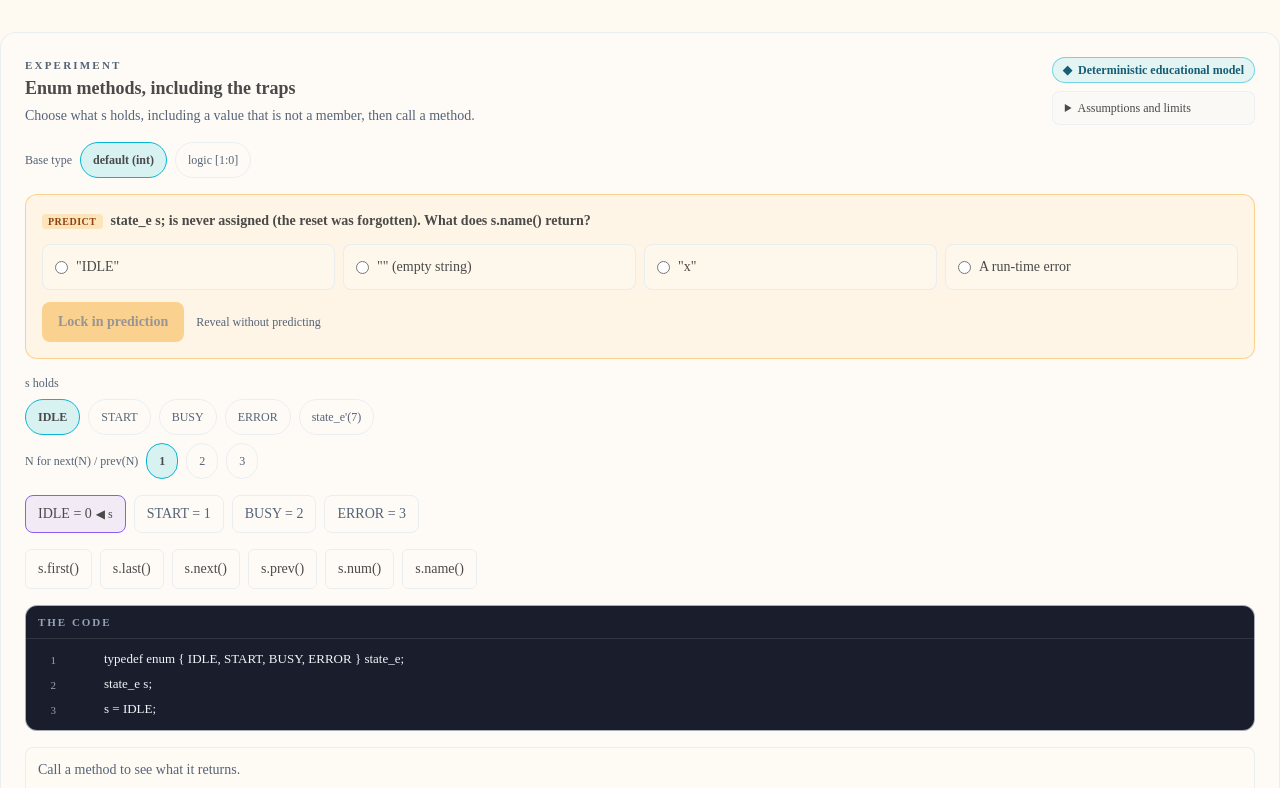
EnumMethodVisualizer › next() on an invalid value returns the default value, and name() returns ""
Click the radio button labelled "state_e'(7)" at (336, 416), box left=299, top=398, right=374, bottom=434
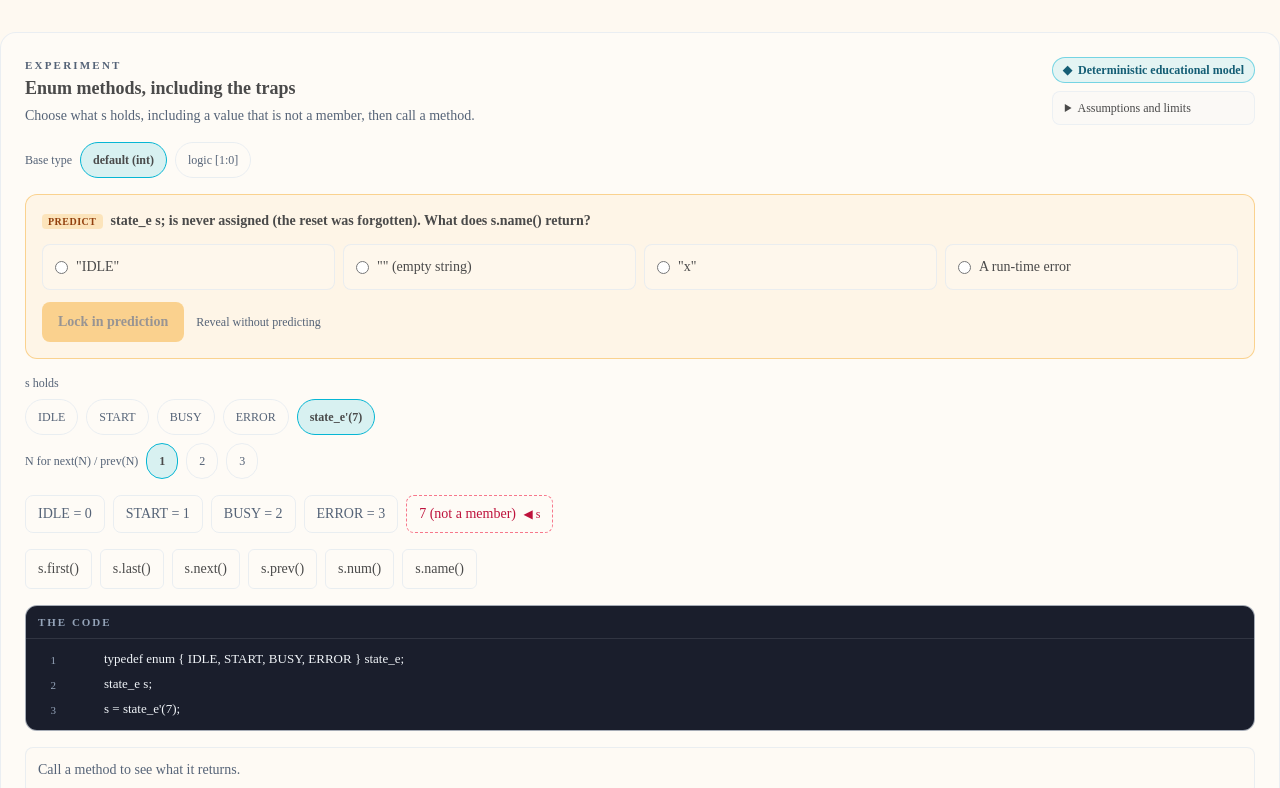
Click the button "s.next()" at (206, 568), box left=172, top=548, right=240, bottom=588
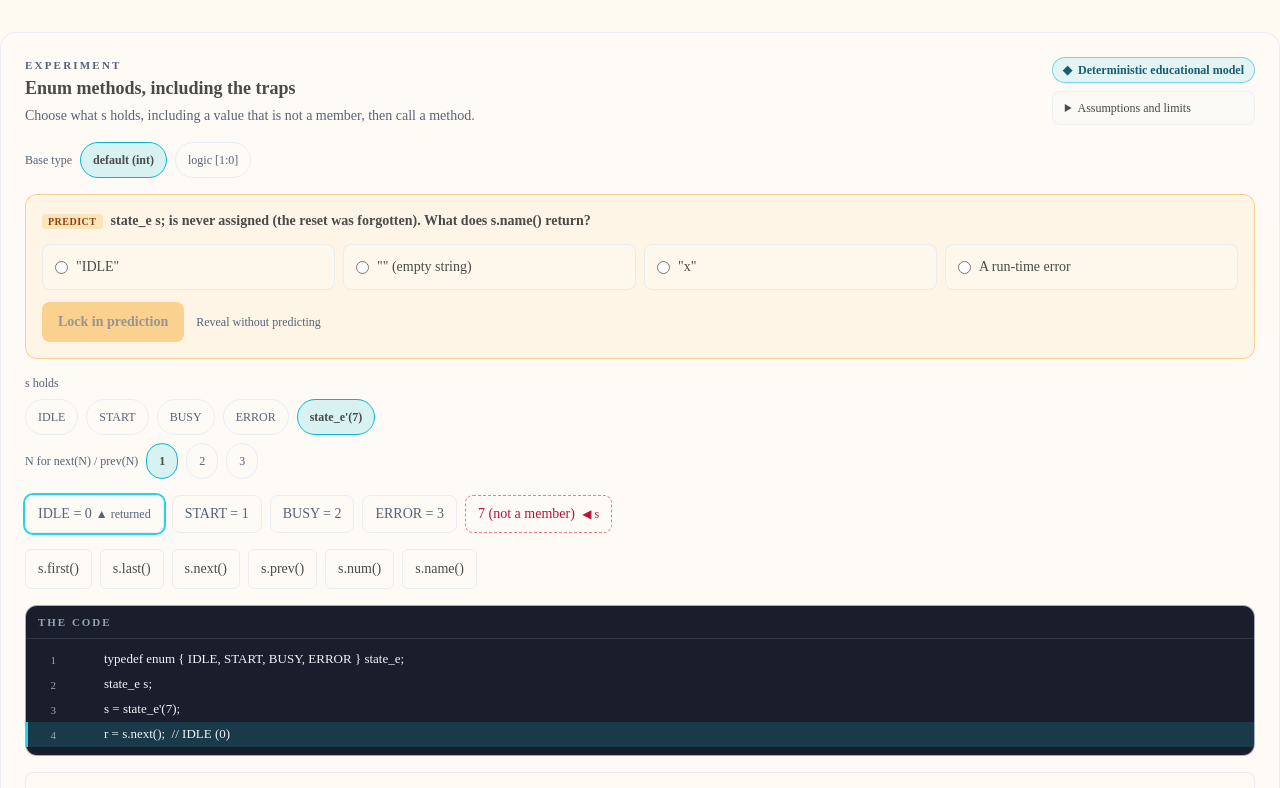
Click the button "s.name()" at (440, 568), box left=402, top=548, right=477, bottom=588
(page scrolled)
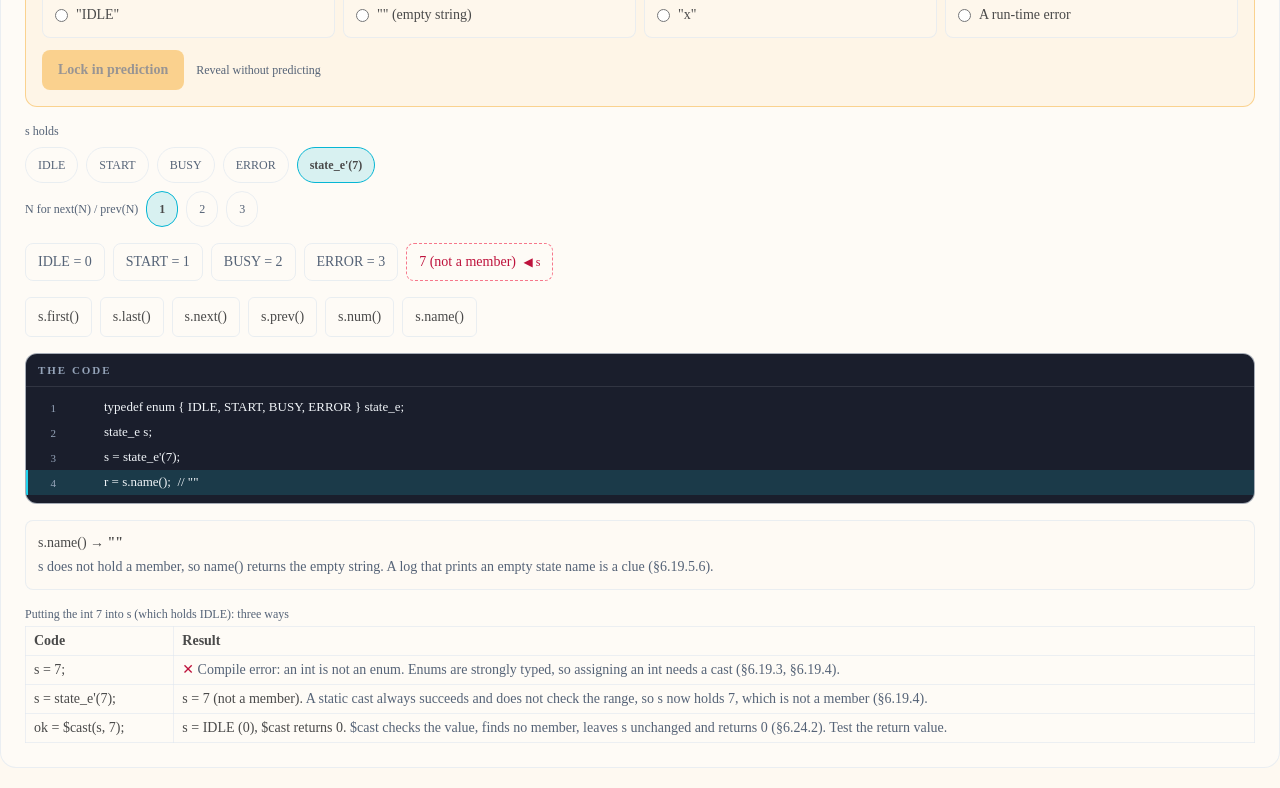
Now the text "name() returns the empty string" is shown, box left=38, top=559, right=714, bottom=574
